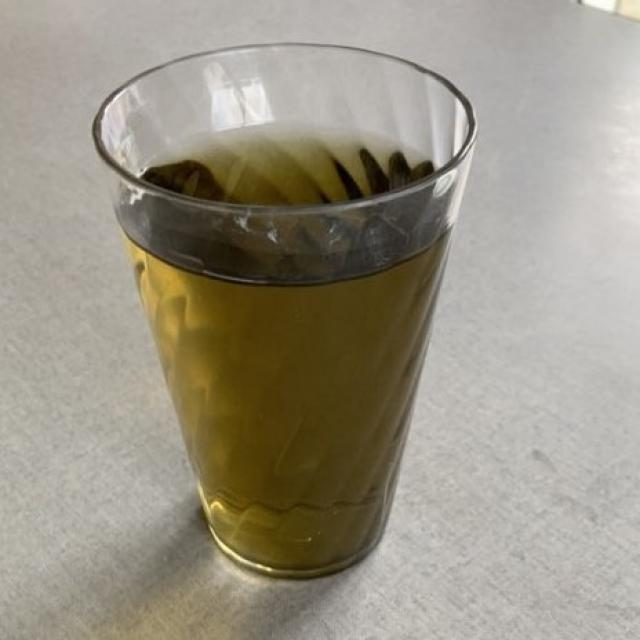tea: (127, 124, 447, 560)
